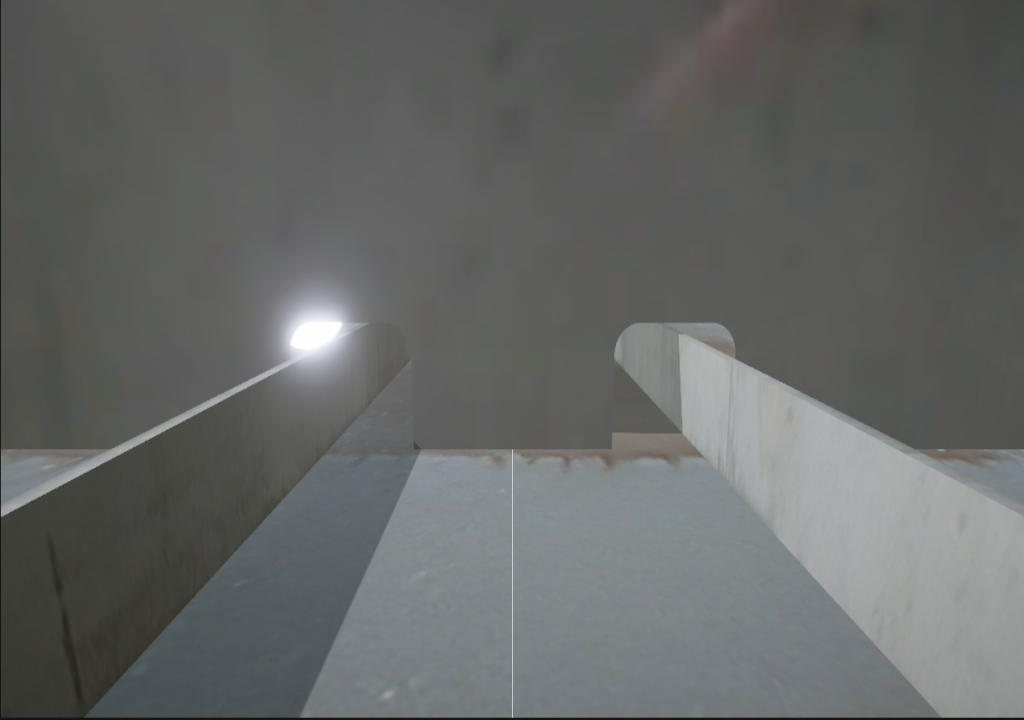fillet_yong_jeop_jang: (404, 432, 632, 466)
